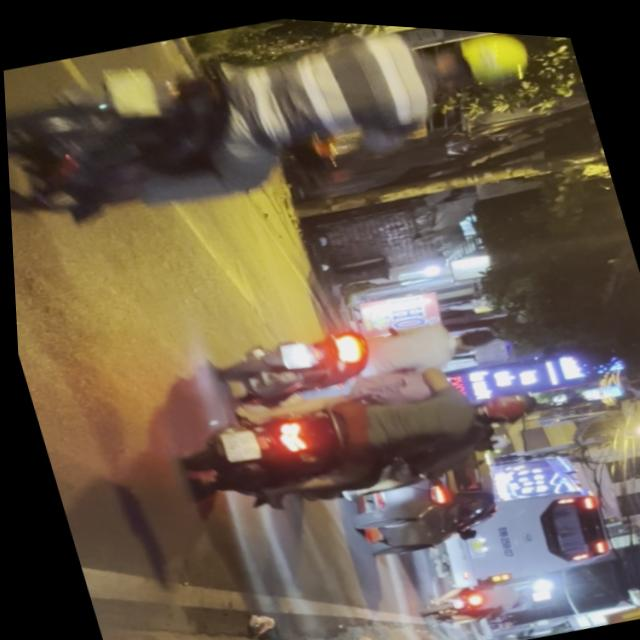helmet: (418, 22, 538, 97), (466, 376, 536, 426)
licenseplate: (0, 0, 564, 279), (162, 330, 556, 542), (202, 278, 508, 429)
motorcyclist: (447, 313, 497, 347)
nohelmet: (102, 57, 162, 122), (215, 423, 258, 463), (274, 335, 308, 369)
